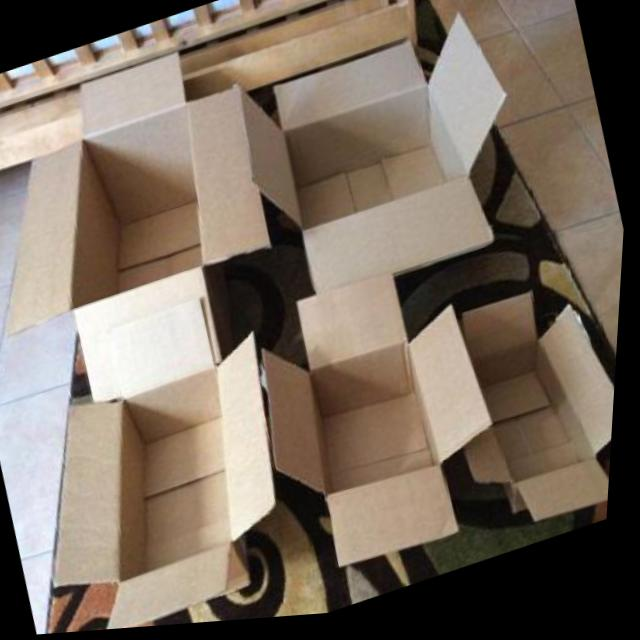box: (0, 11, 317, 437), (218, 0, 577, 355), (229, 237, 541, 625), (0, 279, 331, 639), (428, 260, 626, 569)
